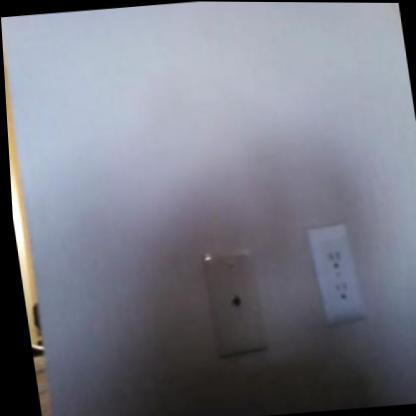OUTLET: (307, 225, 366, 323)
